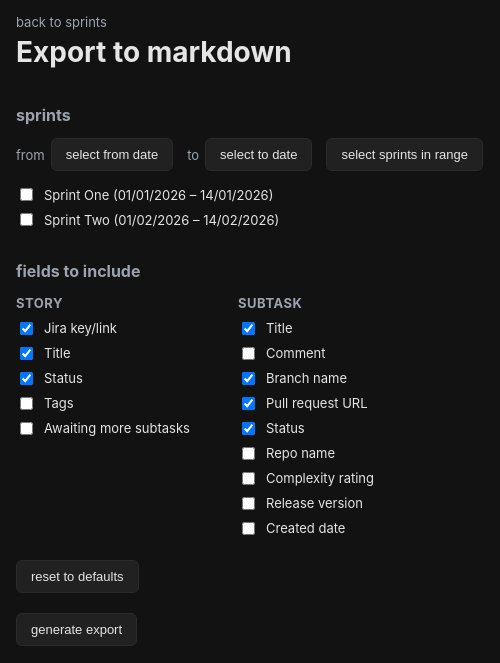
Scenario: export page › selects only sprints overlapping the given date range
This screenshot has width=500, height=663.
Expected: the text "Sprint One (01/01/2026 – 14/01/2026)" is shown, [20, 187, 273, 203]
Click the button "select from date" at coordinates (112, 155), box [51, 138, 173, 171]
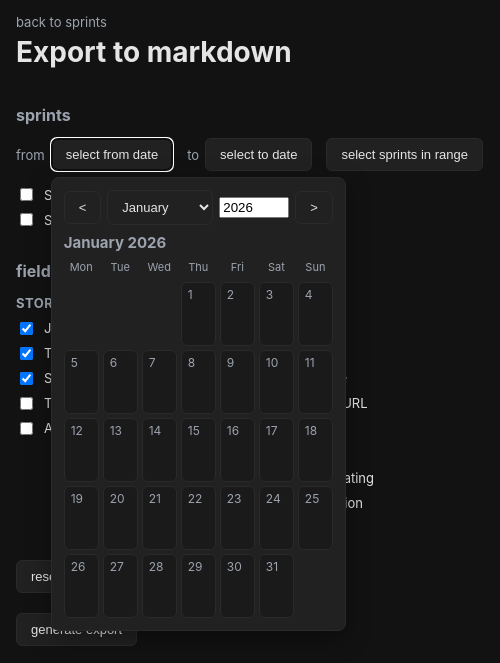
Click the text "1" at coordinates (190, 295), box [188, 287, 193, 302]
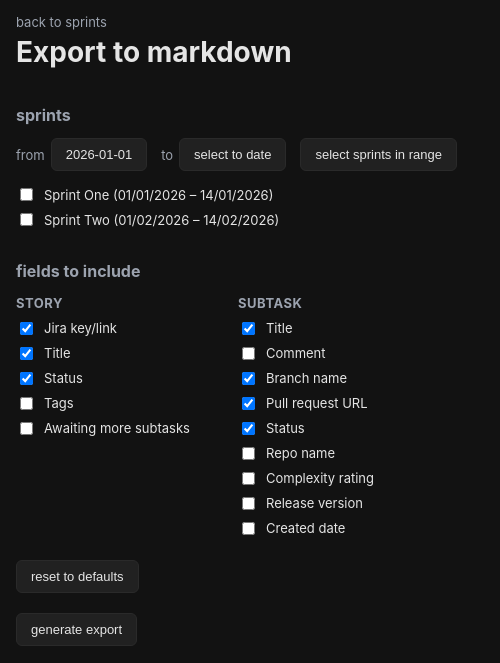
Click the button "select to date" at coordinates (233, 155), box [179, 138, 286, 171]
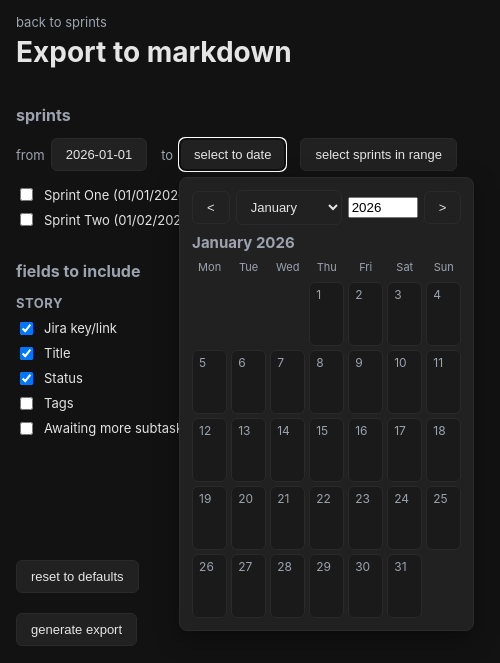
Click the text "14" at coordinates (284, 431), box [277, 423, 290, 438]
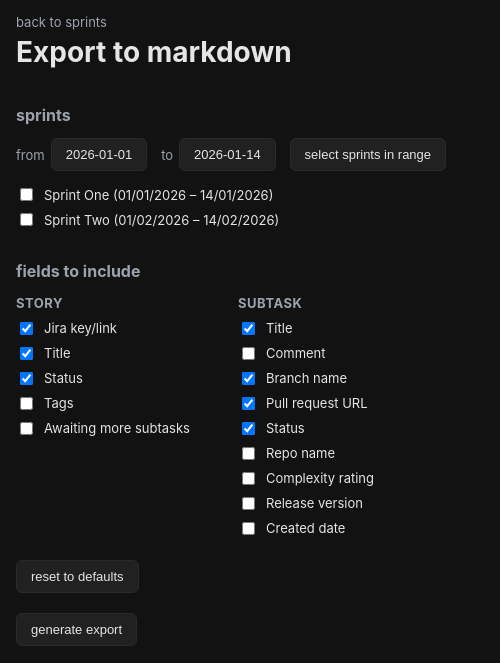
Click the button "select sprints in range" at coordinates (368, 155), box [290, 138, 446, 171]
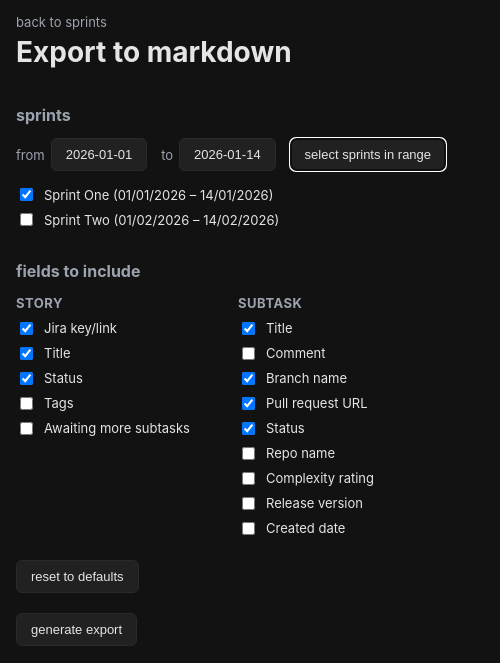
Expected: the checkbox labelled "Sprint Two (01/02/2026 – 14/02/2026)" is not checked, [20, 213, 33, 226]
Now the checkbox labelled "Sprint One (01/01/2026 – 14/01/2026)" is checked, box [20, 188, 33, 201]
